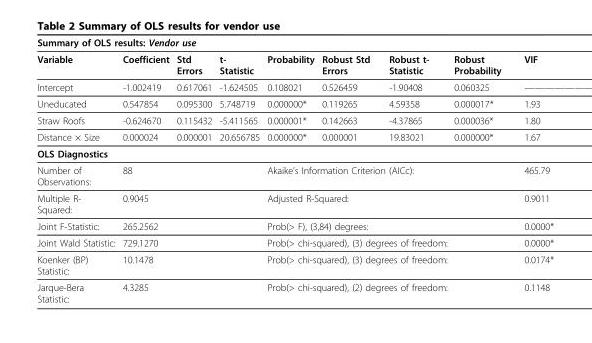table: (36, 36, 553, 303)
table column: (36, 36, 118, 303), (440, 36, 512, 303), (378, 36, 440, 303), (317, 36, 378, 303), (262, 36, 317, 303), (118, 36, 172, 303), (215, 36, 262, 303), (172, 36, 215, 303), (512, 36, 553, 303)
table column header: (36, 36, 553, 78)
table projected row header: (36, 144, 553, 161)
table row: (36, 50, 553, 78), (36, 161, 553, 189), (36, 189, 553, 217), (36, 250, 553, 278), (36, 278, 553, 303), (36, 78, 553, 95), (36, 111, 553, 128), (36, 144, 553, 161), (36, 217, 553, 234), (36, 95, 553, 111), (36, 128, 553, 144), (36, 234, 553, 250), (36, 36, 553, 50)
table spanning cell: (36, 36, 553, 50), (262, 161, 512, 189), (262, 189, 512, 217), (262, 250, 512, 278), (262, 278, 512, 303), (262, 217, 512, 234), (118, 161, 262, 189), (118, 189, 262, 217), (118, 250, 262, 278), (262, 234, 512, 250), (118, 278, 262, 303), (118, 217, 262, 234), (118, 234, 262, 250)
